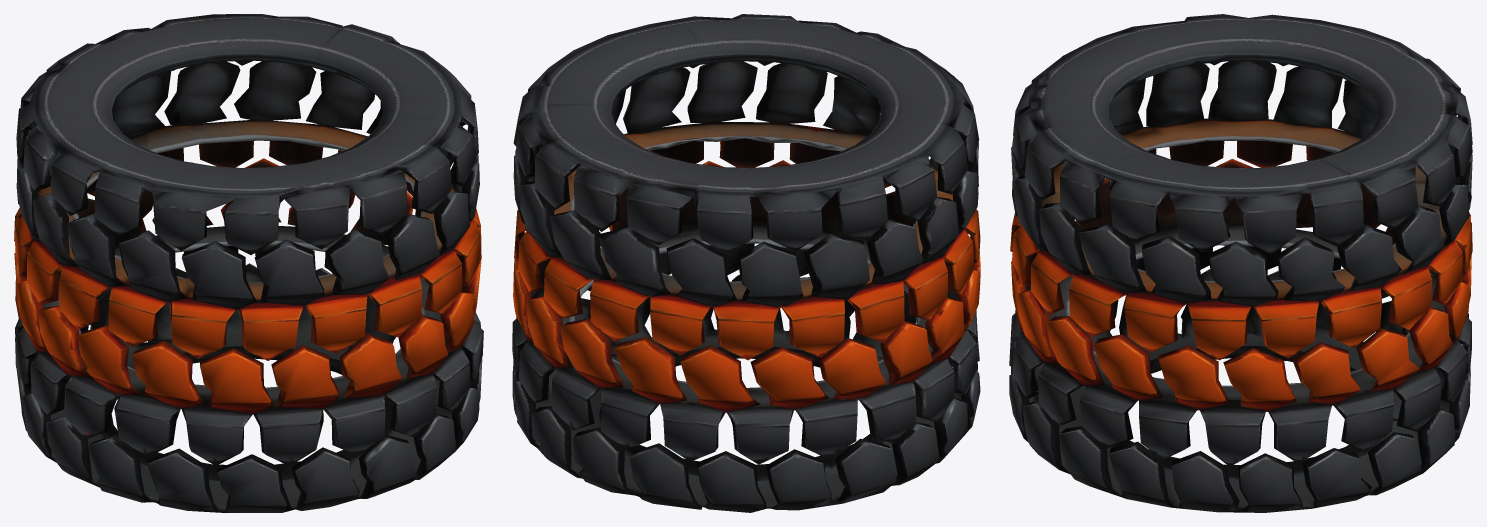
Rendered from tire-wall.glb.
3 views of the same model, side by side, from view 1: azimuth 30°, elevation 25°; view 2: azimuth 150°, elevation 25°; view 3: azimuth 270°, elevation 25° (orthographic).
Visible parts, largest first — view 1: tripo_node_1690f1dc-740b-41df-9293-48c4d3fab1f2; view 2: tripo_node_1690f1dc-740b-41df-9293-48c4d3fab1f2; view 3: tripo_node_1690f1dc-740b-41df-9293-48c4d3fab1f2.
Part boxes in pixels (<box>): tripo_node_1690f1dc-740b-41df-9293-48c4d3fab1f2: <box>14,14,483,512</box>; tripo_node_1690f1dc-740b-41df-9293-48c4d3fab1f2: <box>512,14,980,512</box>; tripo_node_1690f1dc-740b-41df-9293-48c4d3fab1f2: <box>1009,14,1472,512</box>.
Bounding box in the file's own units: 1.5 × 1.15 × 1.5.
Materials: 1 (1 with a texture image).
